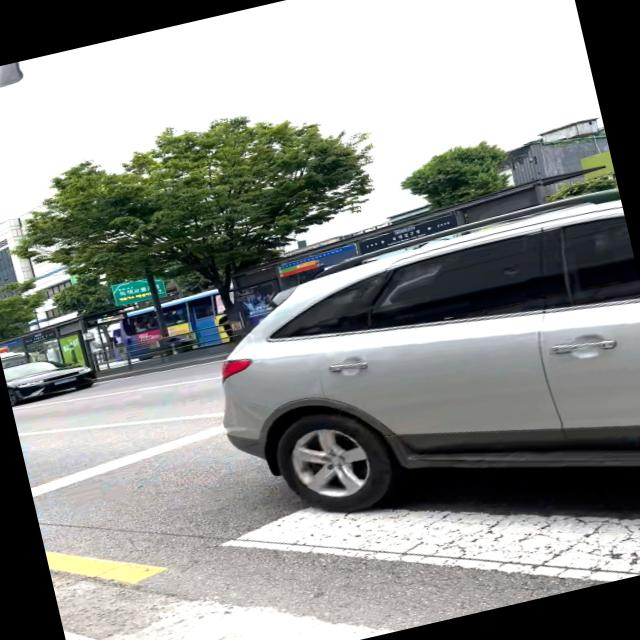car: (189, 185, 640, 564), (2, 346, 98, 406)
